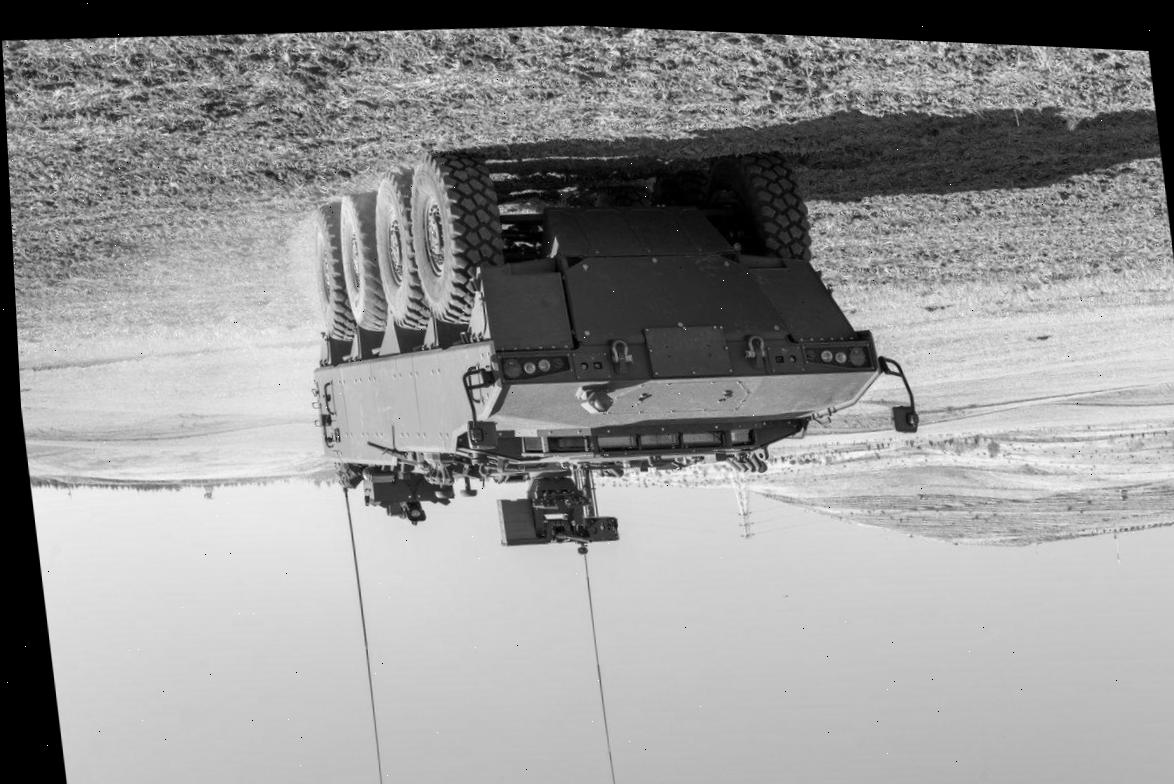tank: (277, 112, 937, 588)
